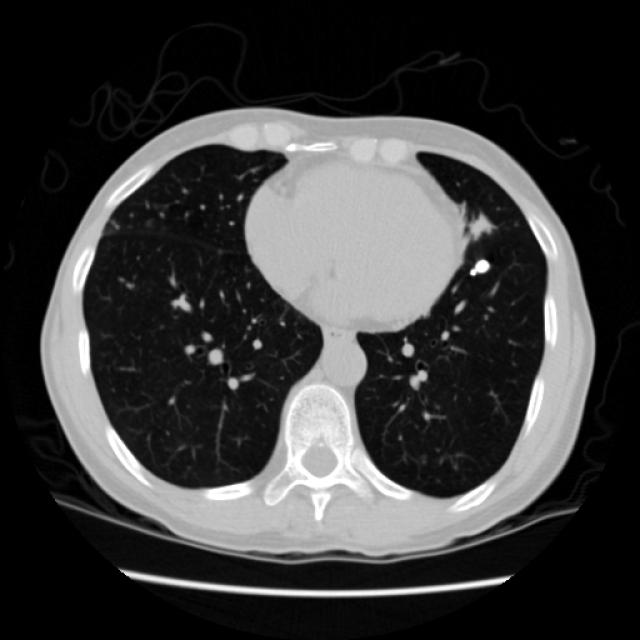nodule: (461, 246, 501, 286)
